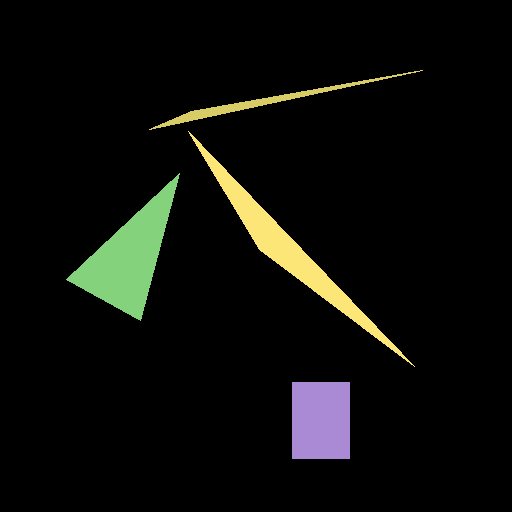rectangle: (292, 382, 349, 458)
triangle: (188, 131, 414, 366), (66, 173, 179, 320)
